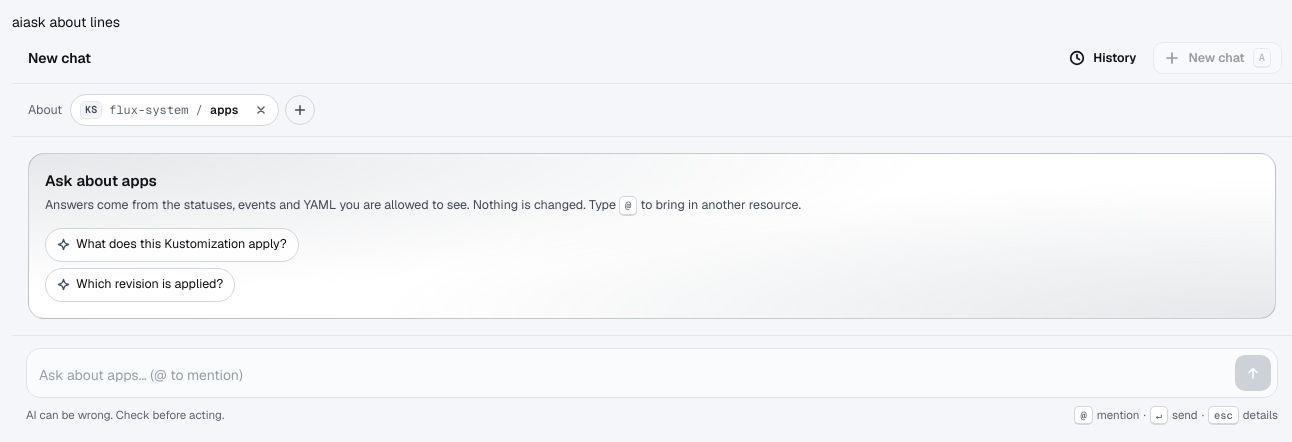
Ask AI chats › errors › keeps the question and offers a retry on 429
Type "hello" into the dropdown named "Ask AI" at [633, 374], box x1=39 y1=358 x2=1227 y2=390
Then press Enter
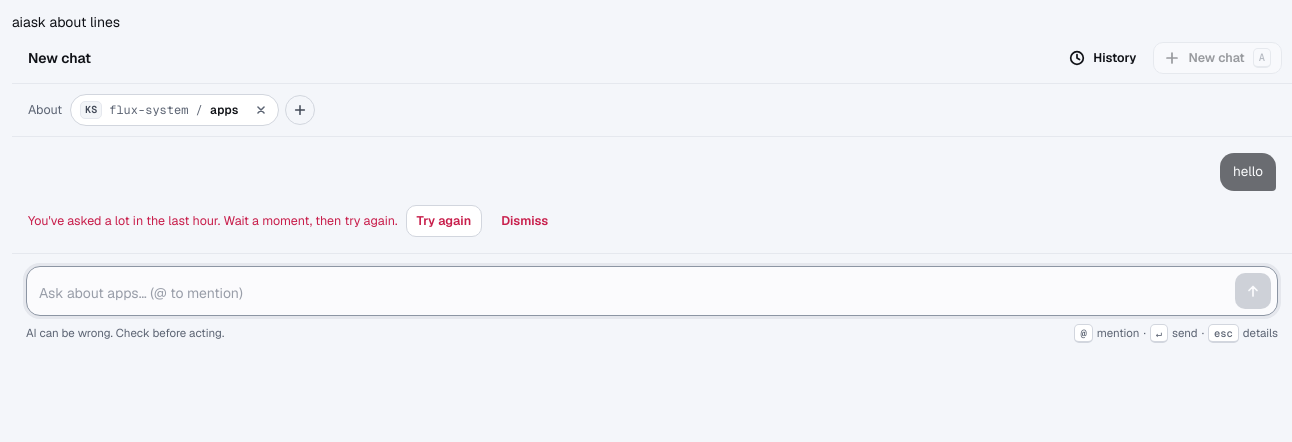
Expected: the message shows "Wait a moment", x1=28 y1=212 x2=398 y2=229
Expected: the text "hello" is shown, x1=1220 y1=153 x2=1276 y2=191
Click the button "Try again" at [444, 221], box x1=406 y1=205 x2=482 y2=237
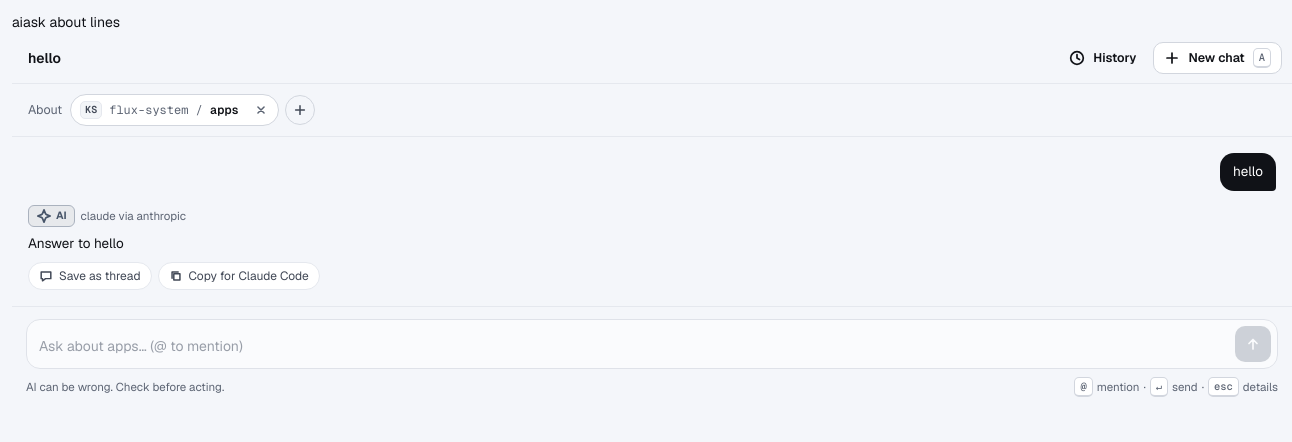
Expected: the text "Answer to hello" is shown, x1=28 y1=234 x2=124 y2=252
Expected: the message is gone
